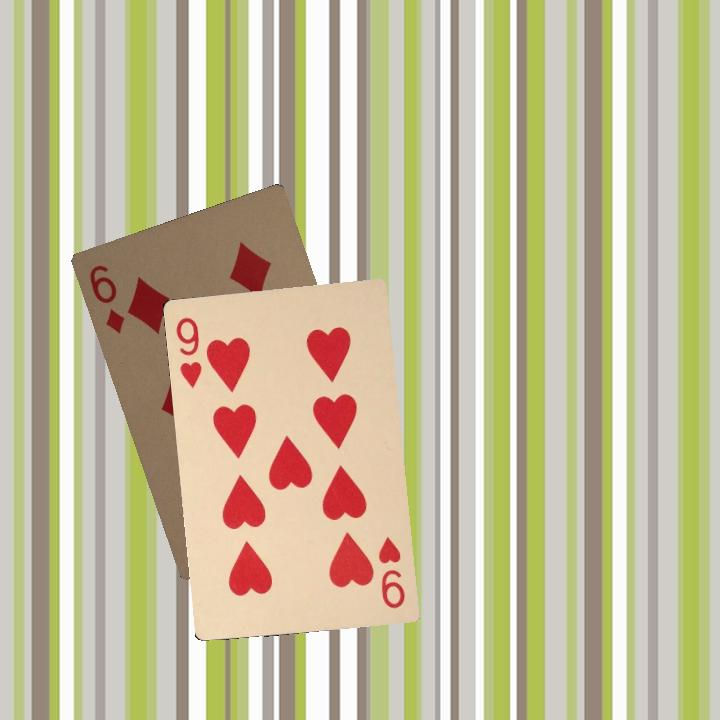6d: (85, 261, 127, 336)
9h: (374, 532, 408, 611), (172, 313, 204, 390)
